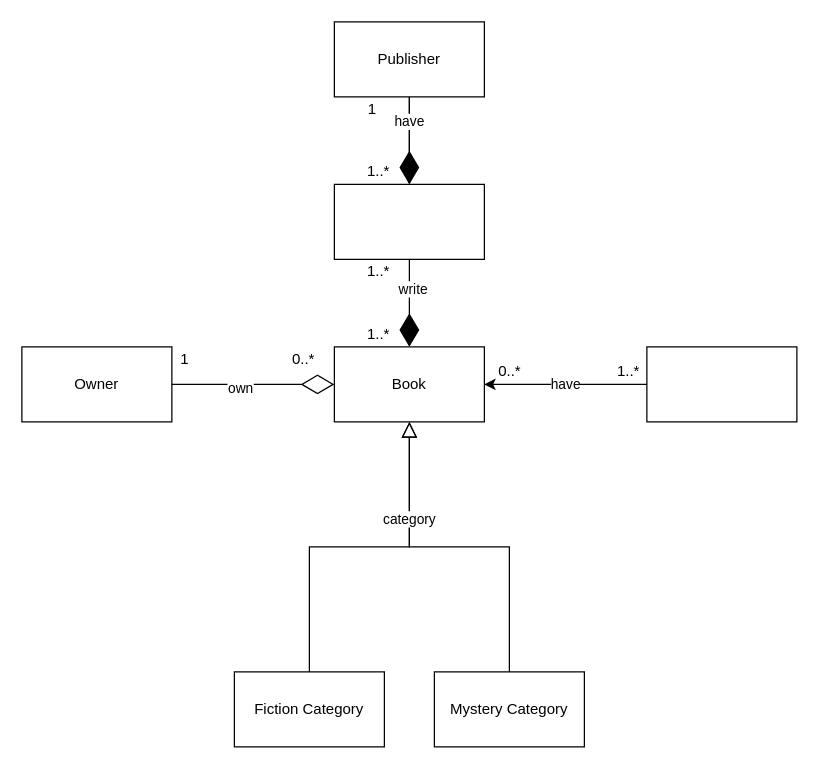
The diagram is 819 pixels wide and 769 high, and some of its shapes have lost their labels. Here are the shapes that lost their labels. From the top down, the centre of each, then its label:
the point at 408,221: Author
the point at 721,384: Library
